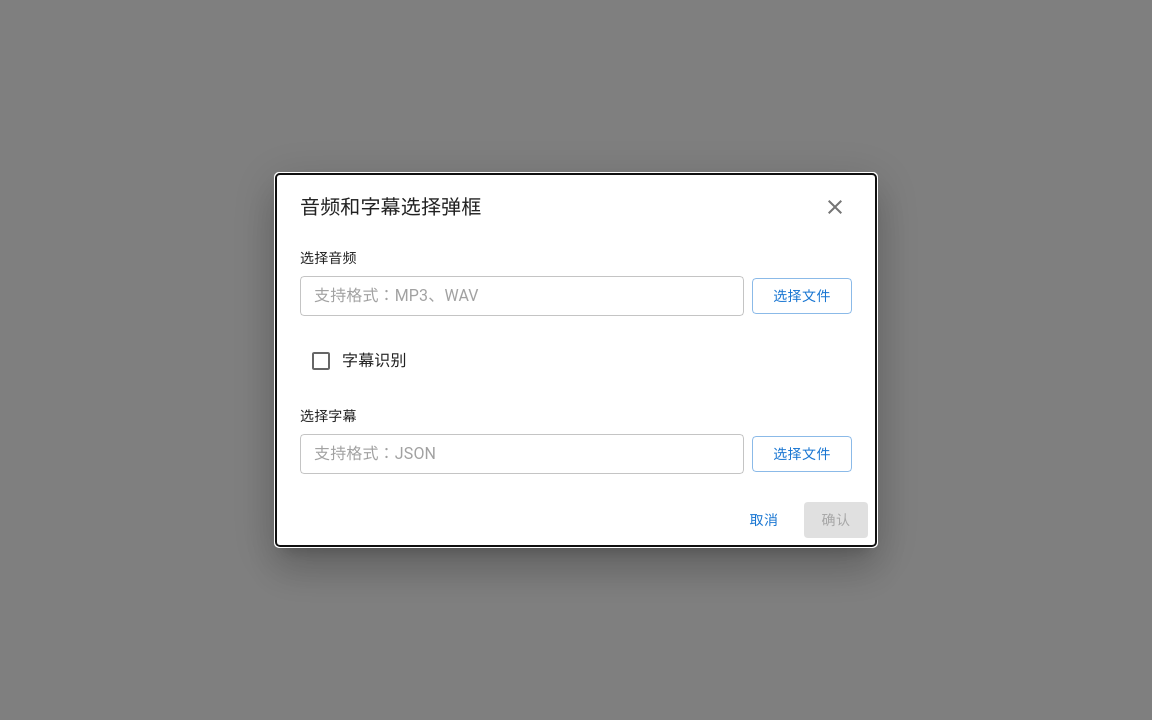
FileImportModal › 确认按钮 › 勾选"字幕识别"但未选择音频文件时，点击确认应显示提示"请选择需要识别字幕的音频文件"
// 勾选"字幕识别"勾选框
Step 1. Click the checkbox labelled "字幕识别" → (358, 361), box [309, 349, 407, 373]
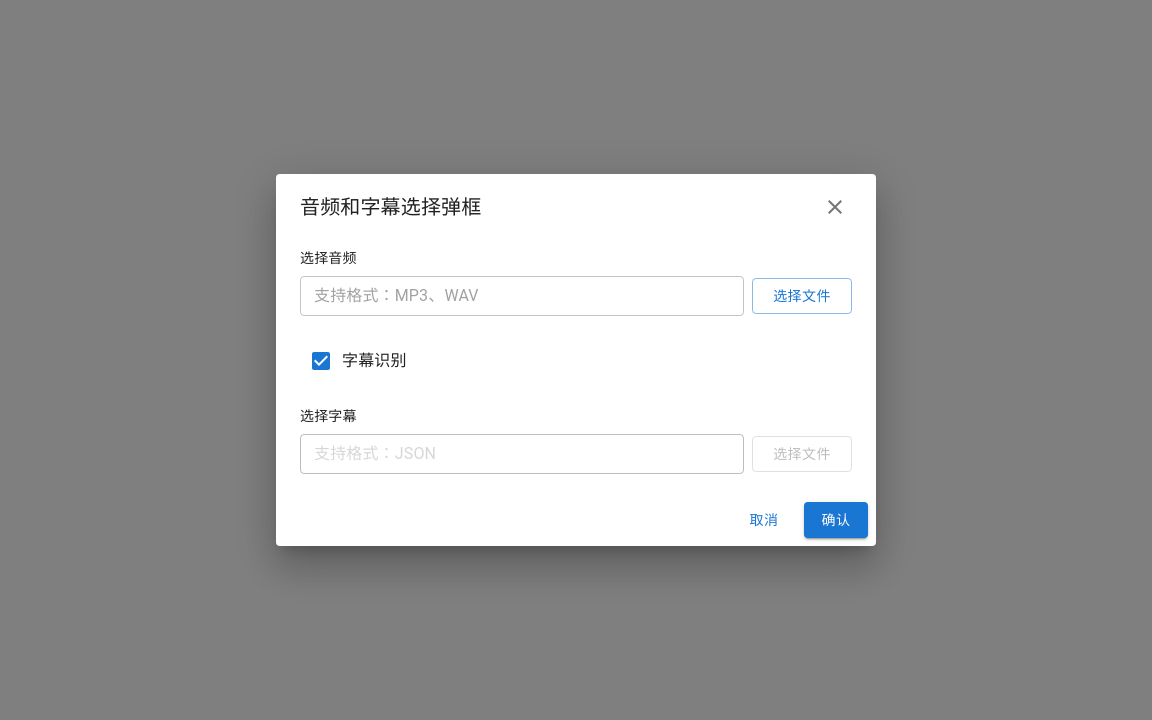
Expected: the button "确认" is enabled
// 点击确认按钮（此时未选择音频文件）
Step 2. Click the button "确认" → (836, 520), box [804, 502, 868, 538]
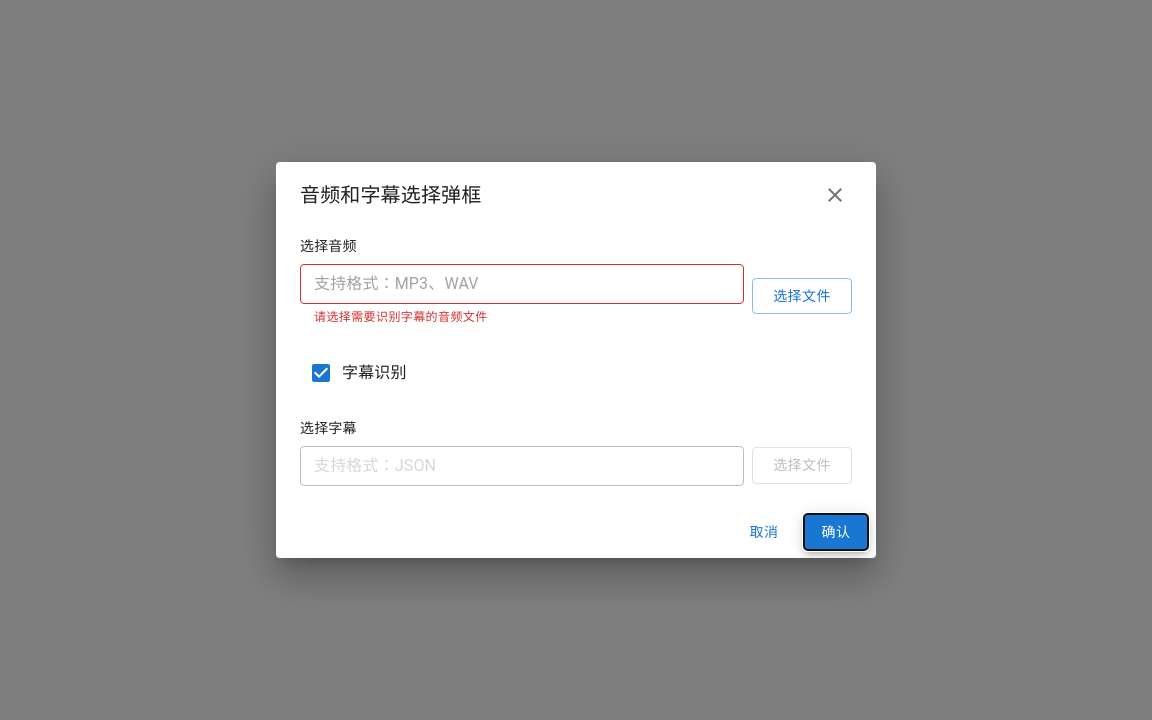
Expected: the text "请选择需要识别字幕的音频文件" is shown, [314, 310, 488, 324]
